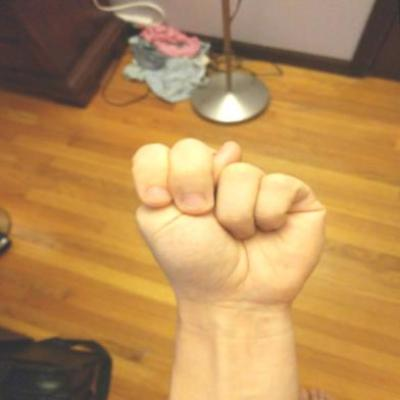hand: (123, 123, 339, 321)
